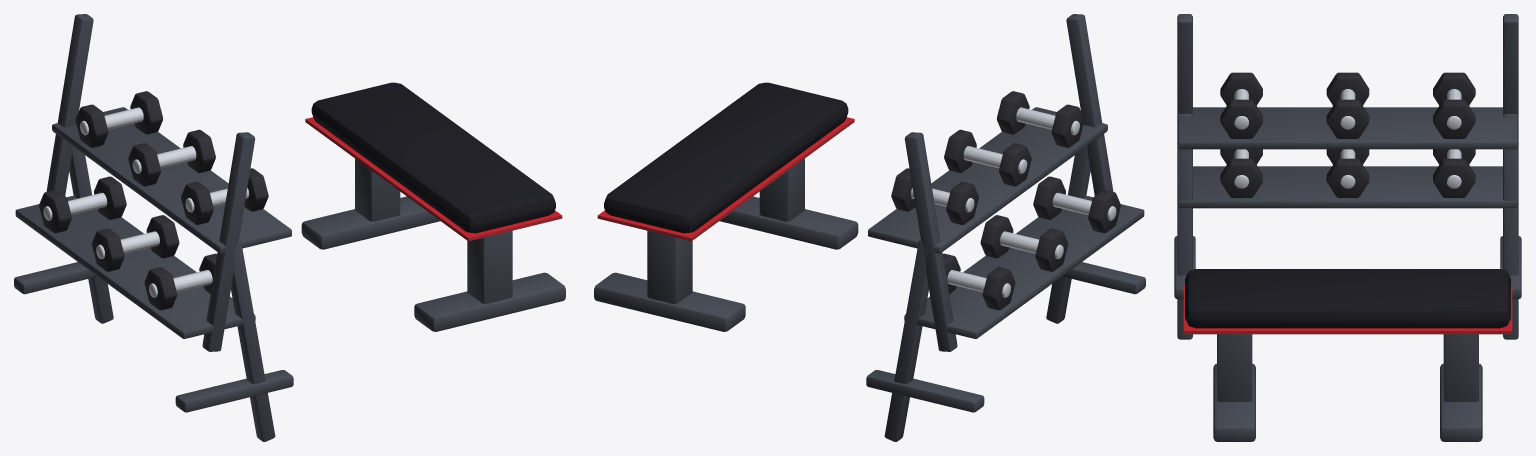
Rendered from GymSet.fbx.
3 renders of one model, left to right at view 1: azimuth 30°, elevation 25°; view 2: azimuth 150°, elevation 25°; view 3: azimuth 270°, elevation 25°, orthographic.
Visible parts, largest first — view 1: GymSet; view 2: GymSet; view 3: GymSet.
Boxes of the visible parts, <box> form: GymSet: <box>14,14,565,441</box>; GymSet: <box>594,14,1145,441</box>; GymSet: <box>1174,14,1521,441</box>.
Size of the model in its own units: 660 by 487 by 490.
